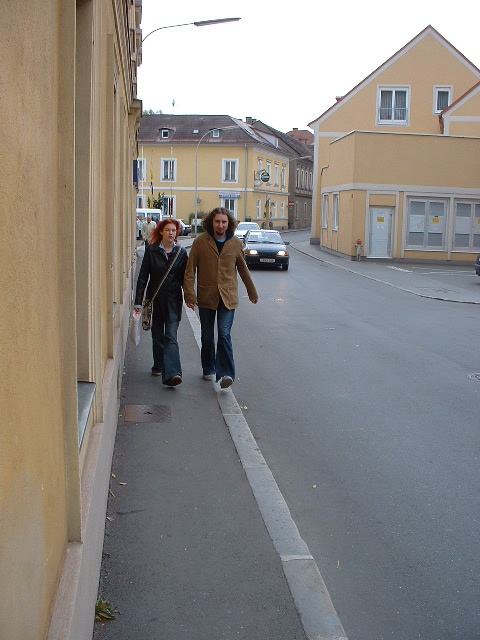person: (184, 208, 252, 390), (133, 216, 191, 388)
